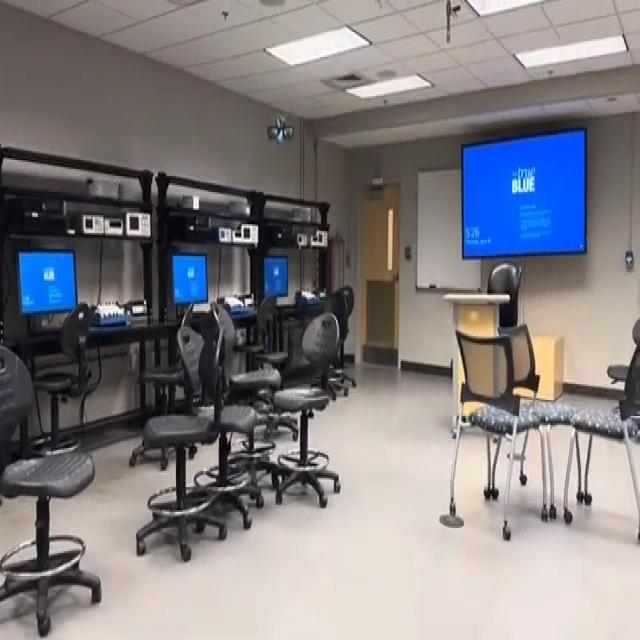drone: (258, 97, 302, 154)
